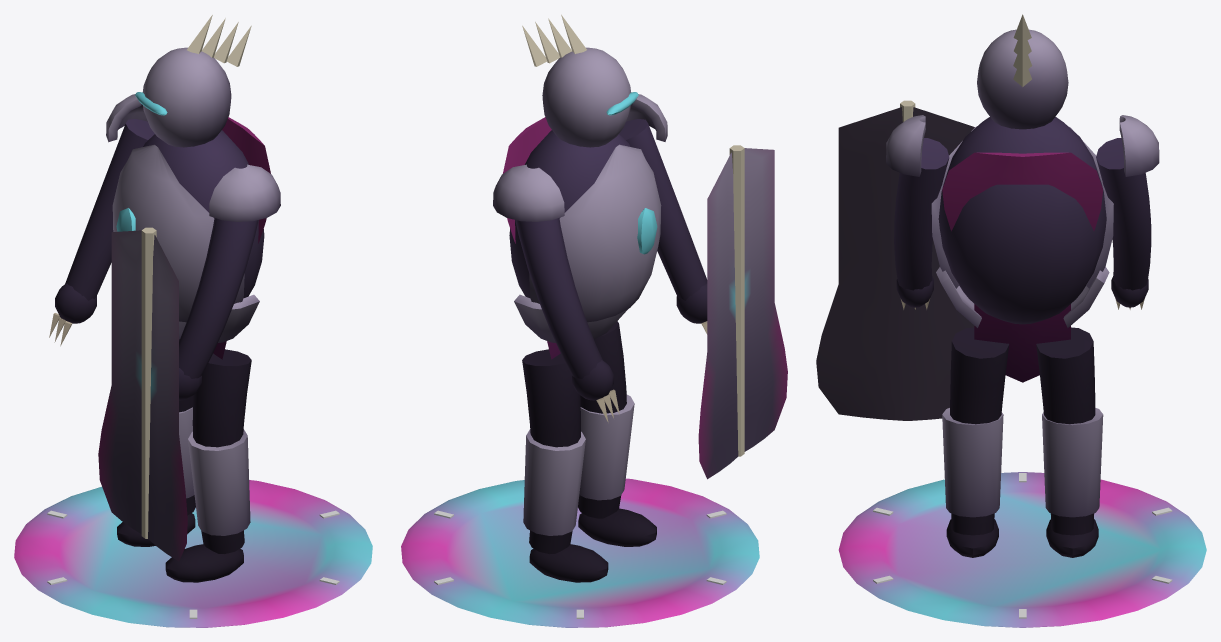
File: Warden.fbx
3 renders of one model, left to right at view 1: azimuth 30°, elevation 25°; view 2: azimuth 150°, elevation 25°; view 3: azimuth 270°, elevation 25°, orthographic. The views are drawn at different scales.
Parts seen in each view (by area): view 1: Aura, Shield, Body, LegL, ArmL, Head, ArmR, LegR; view 2: Aura, Shield, Body, LegR, ArmR, LegL, Head, ArmL; view 3: Aura, Body, Shield, LegL, LegR, ArmR, ArmL, Head.
Part boxes in pixels (x1,y1,x2,y2): Aura: (14,480,372,627); Shield: (98,227,187,561); Body: (112,117,270,359); LegL: (165,349,251,582); ArmL: (179,164,280,400); Head: (135,15,251,147); ArmR: (49,94,154,346); LegR: (117,339,195,546); Aura: (401,478,759,627); Shield: (698,145,787,479); Body: (503,117,661,359); LegR: (522,349,608,582); ArmR: (493,164,619,422); LegL: (578,321,656,546); Head: (522,14,638,147); ArmL: (619,94,707,334); Aura: (838,472,1206,627); Body: (931,117,1113,382); Shield: (816,100,974,420); LegL: (942,327,1009,557); LegR: (1036,327,1103,557); ArmR: (1096,115,1159,309); ArmL: (886,115,949,309); Head: (977,14,1068,129).
Size of the model in its own units: 0.96 by 1.58 by 1.02.
